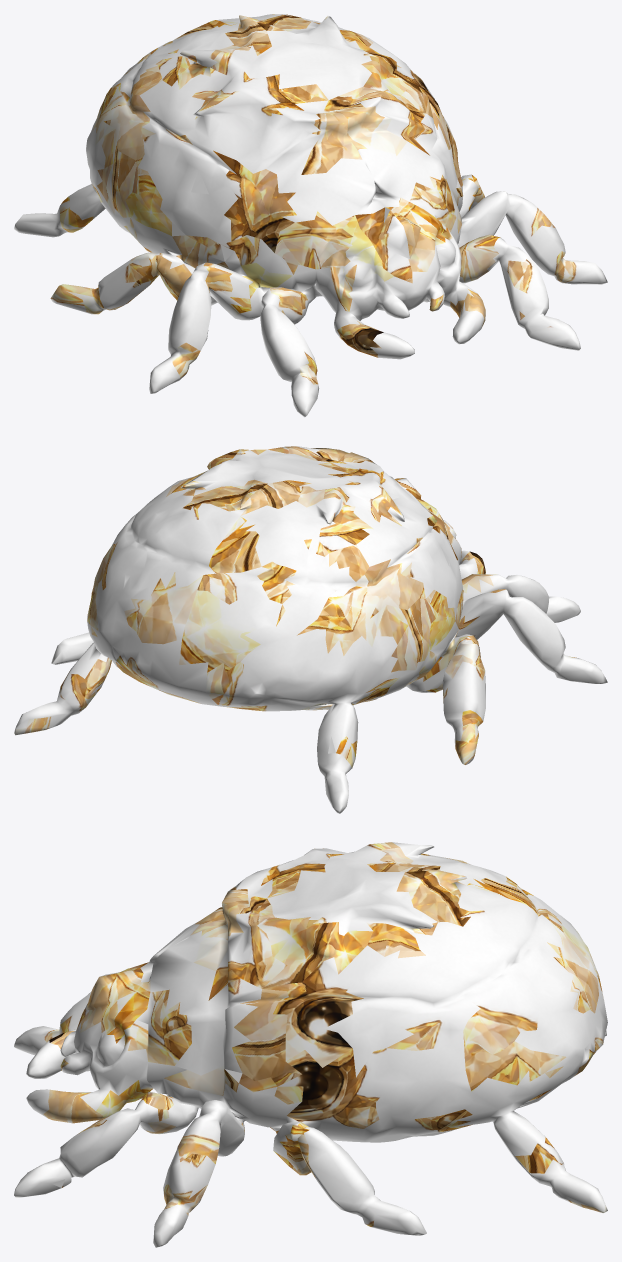
Rendered from sun_scarab_gold_7500tris.fbx.
3 views of the same model, one above another, from view 1: azimuth 30°, elevation 25°; view 2: azimuth 150°, elevation 25°; view 3: azimuth 270°, elevation 25° (orthographic). The views are drawn at different scales.
Parts seen in each view (by area): view 1: sun_scarab_gold_decimated; view 2: sun_scarab_gold_decimated; view 3: sun_scarab_gold_decimated.
Boxes of the visible parts, x1,y1,x2,y2 form: sun_scarab_gold_decimated: (14, 14, 607, 417); sun_scarab_gold_decimated: (14, 446, 607, 813); sun_scarab_gold_decimated: (14, 842, 607, 1247).
Size of the model in its own units: 1.89 by 0.8965 by 1.9.
